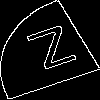Z: (25, 25, 86, 79)
